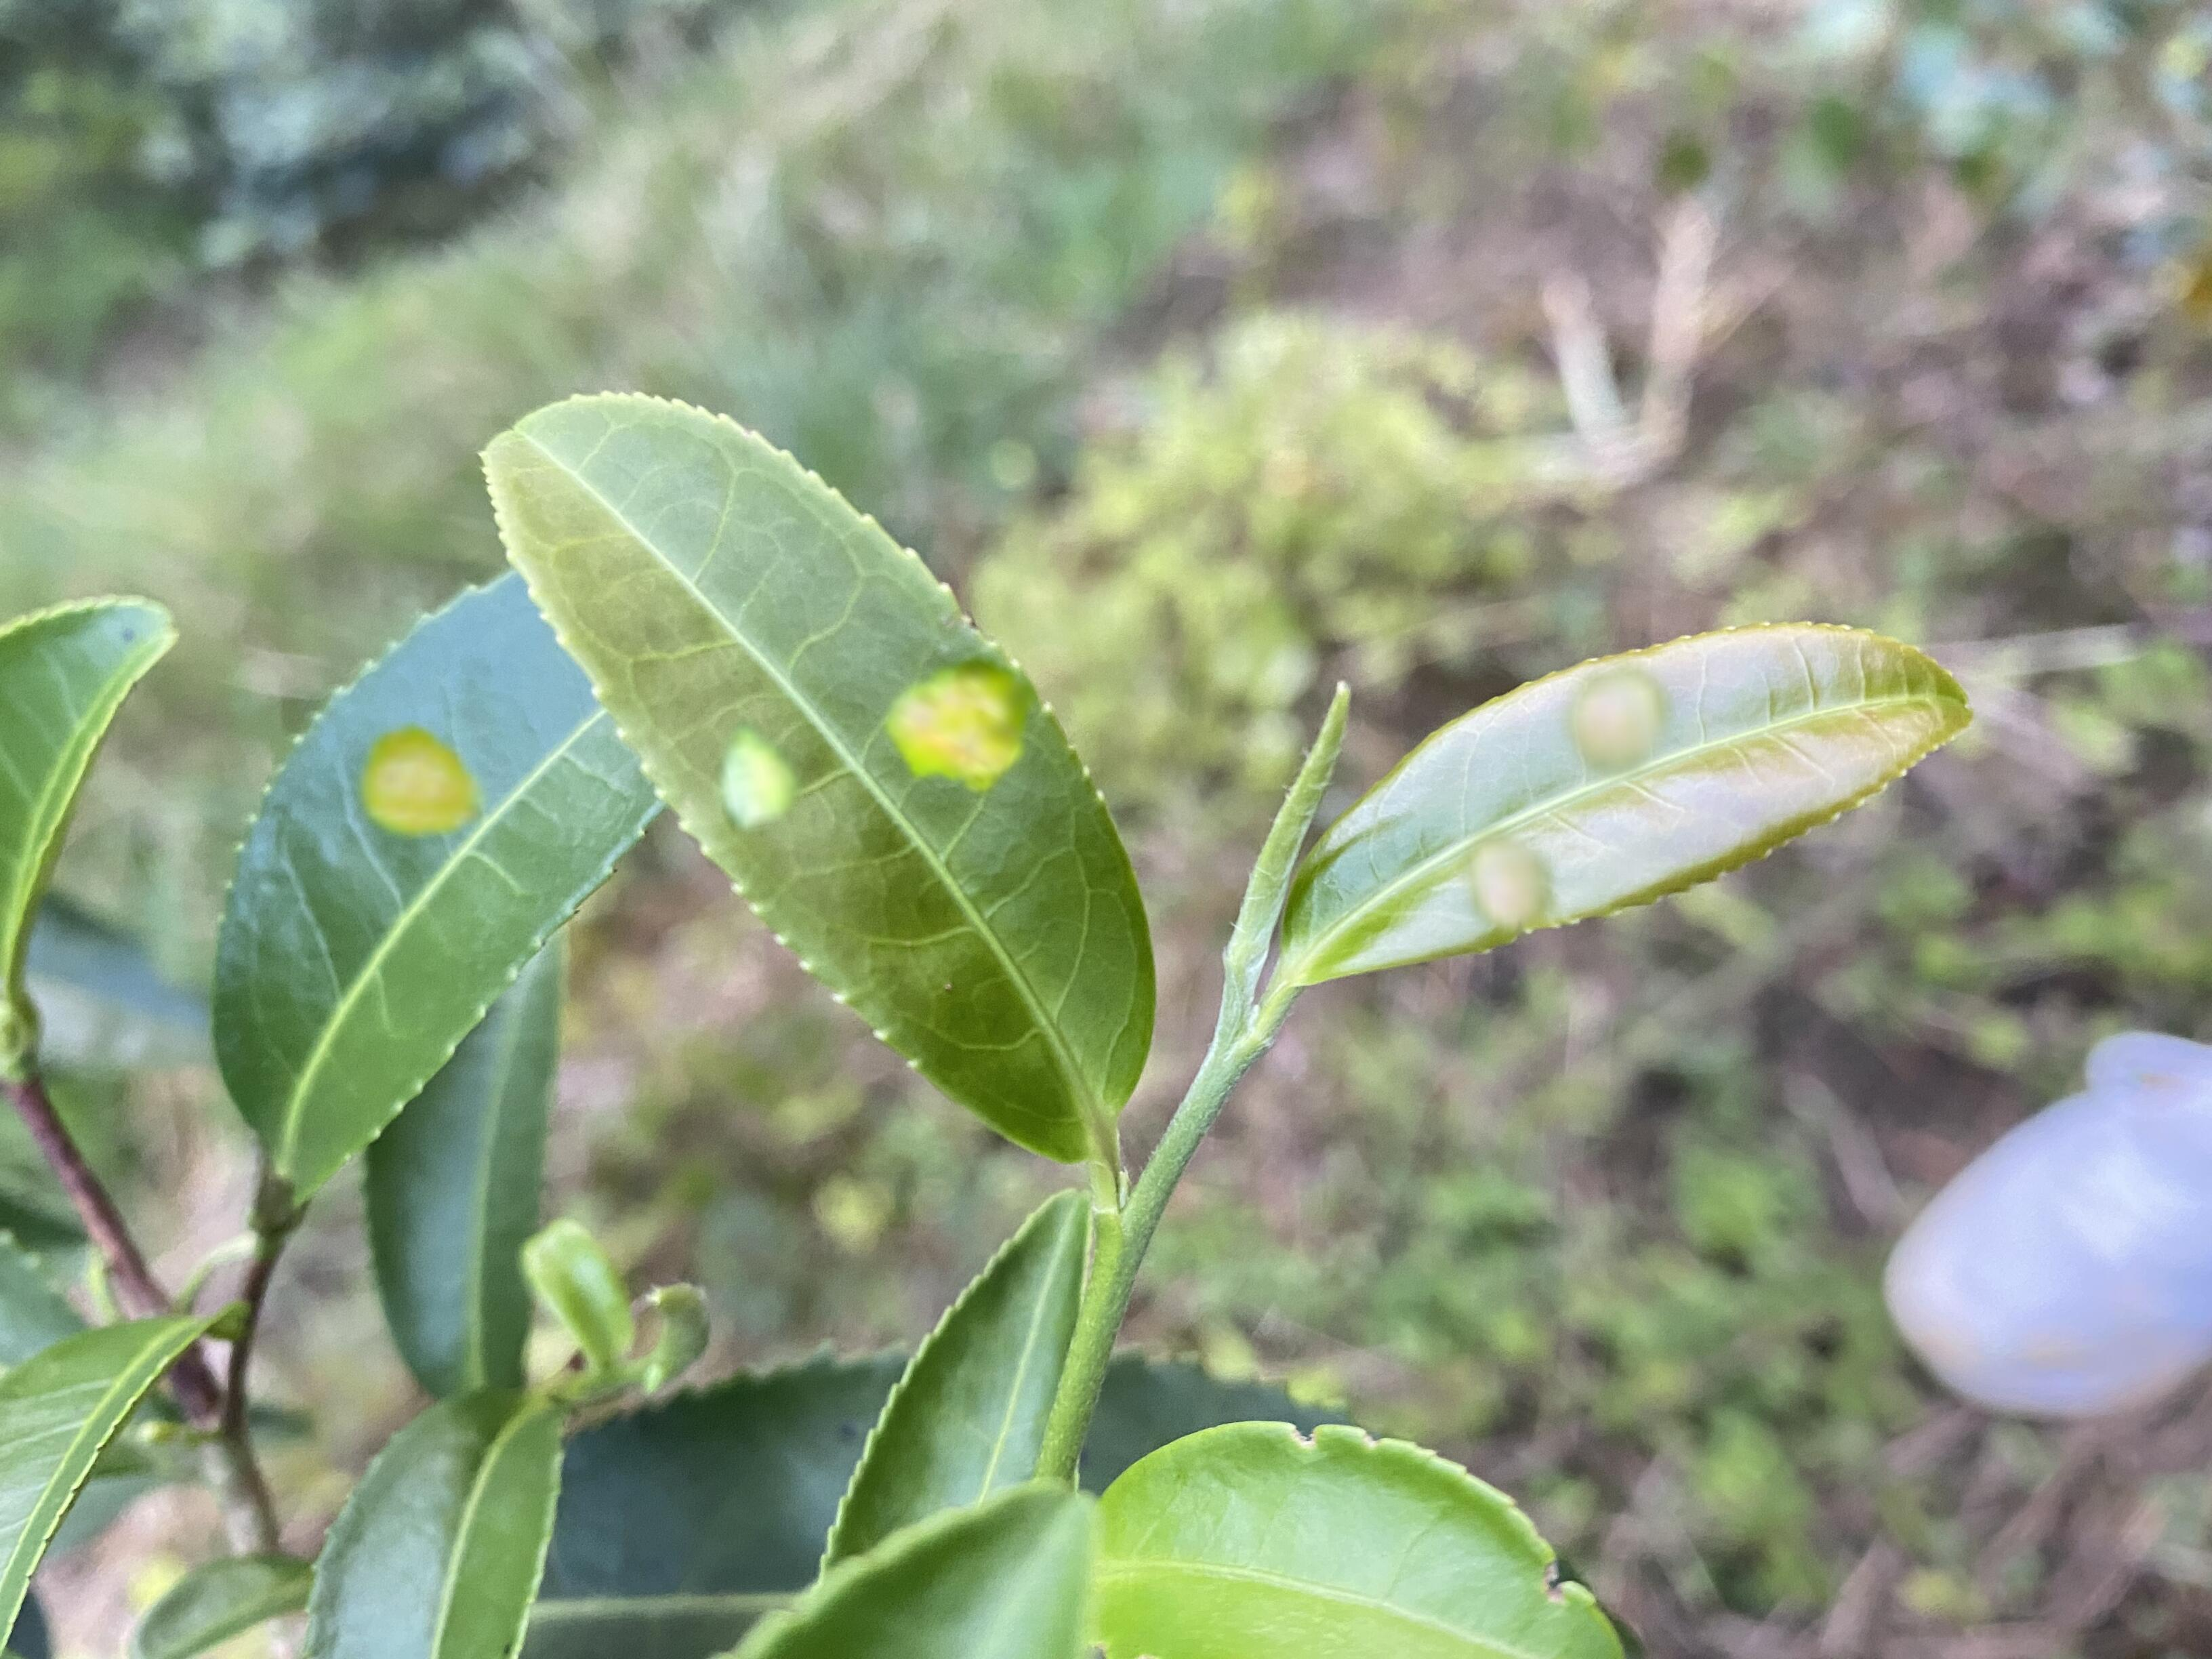chabing_high: (477, 387, 1158, 1161), (1280, 619, 1973, 988)
chabing_low: (214, 573, 664, 1202)
